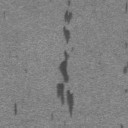red iron: (56, 50, 74, 116), (63, 26, 70, 44), (64, 10, 72, 24), (124, 62, 128, 74), (14, 104, 17, 115), (126, 3, 128, 10), (68, 0, 70, 6), (125, 43, 128, 47)
